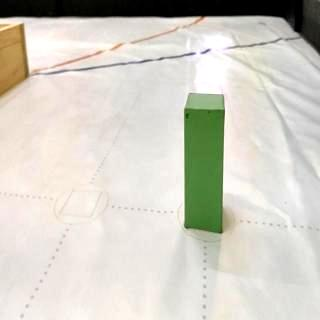greenbox: (182, 92, 223, 235)
